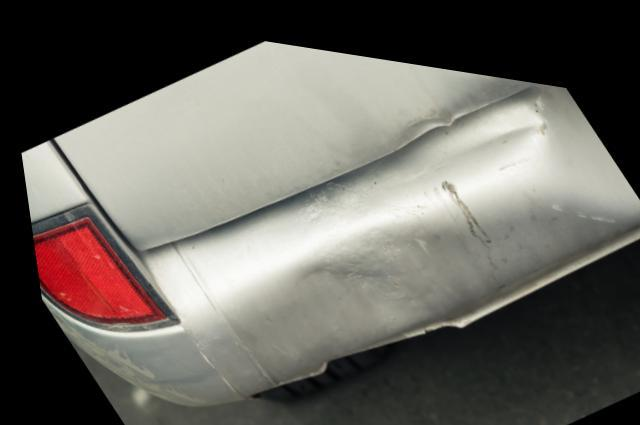dent: (291, 206, 478, 315), (539, 67, 640, 195)
